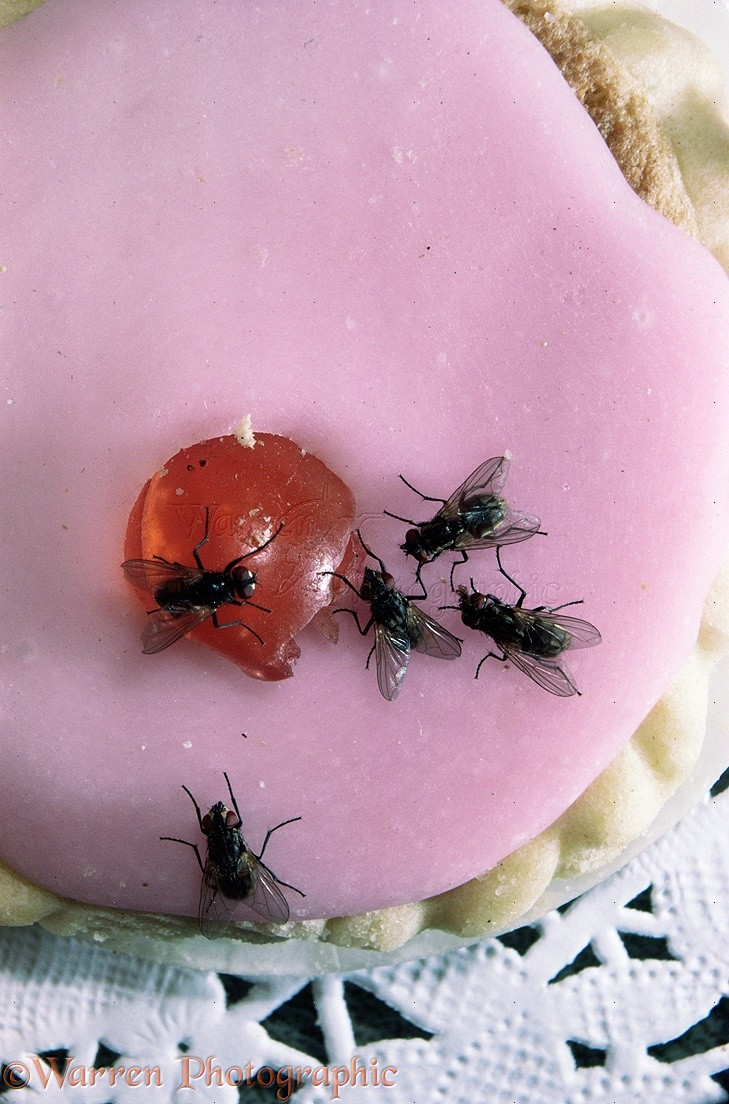fly: (311, 541, 462, 703), (378, 440, 547, 576), (108, 521, 278, 656), (161, 784, 312, 933), (445, 573, 609, 707)
